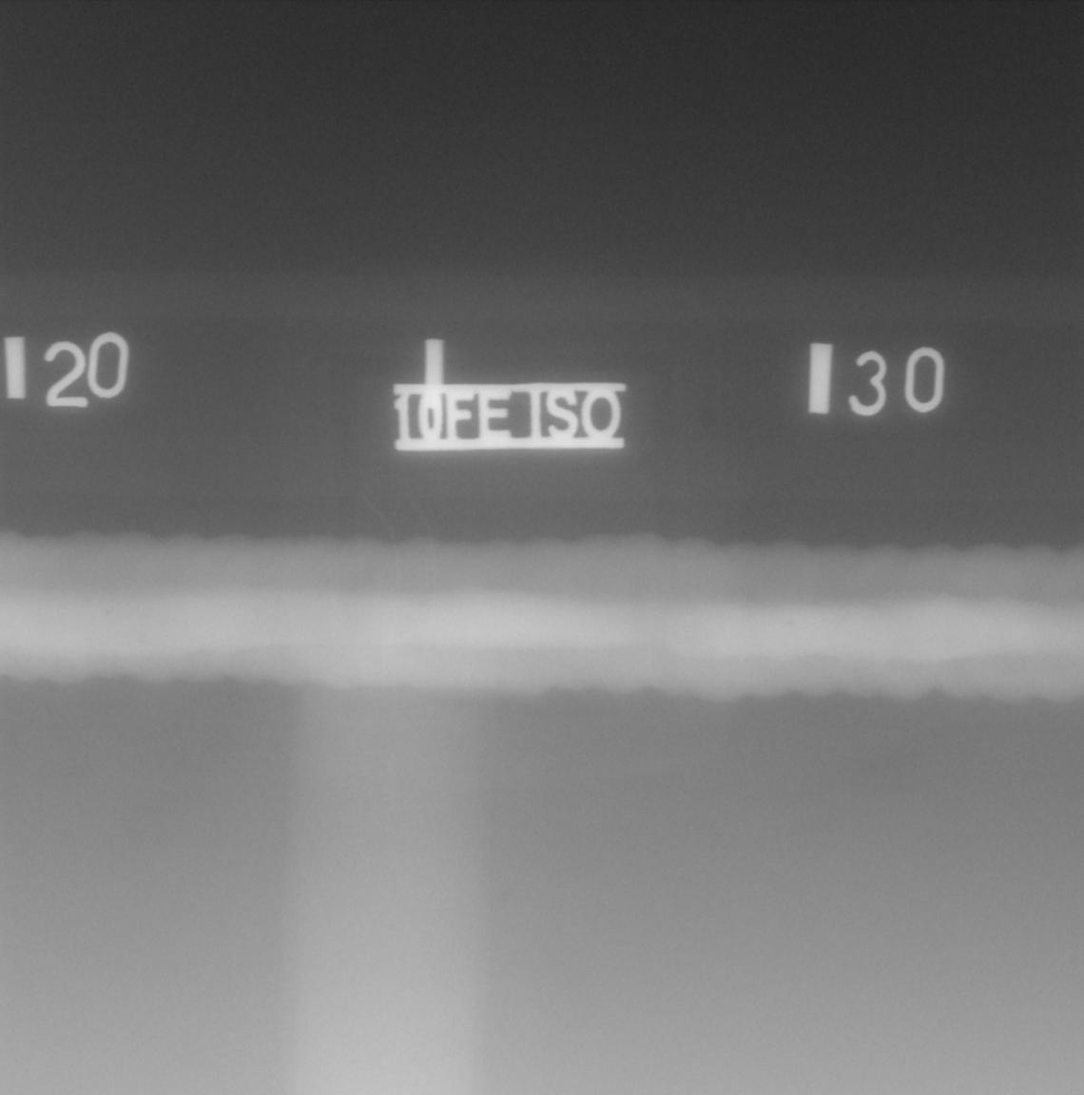Pore/Porosity: (159, 619, 169, 627), (105, 610, 111, 615), (788, 620, 792, 625)
